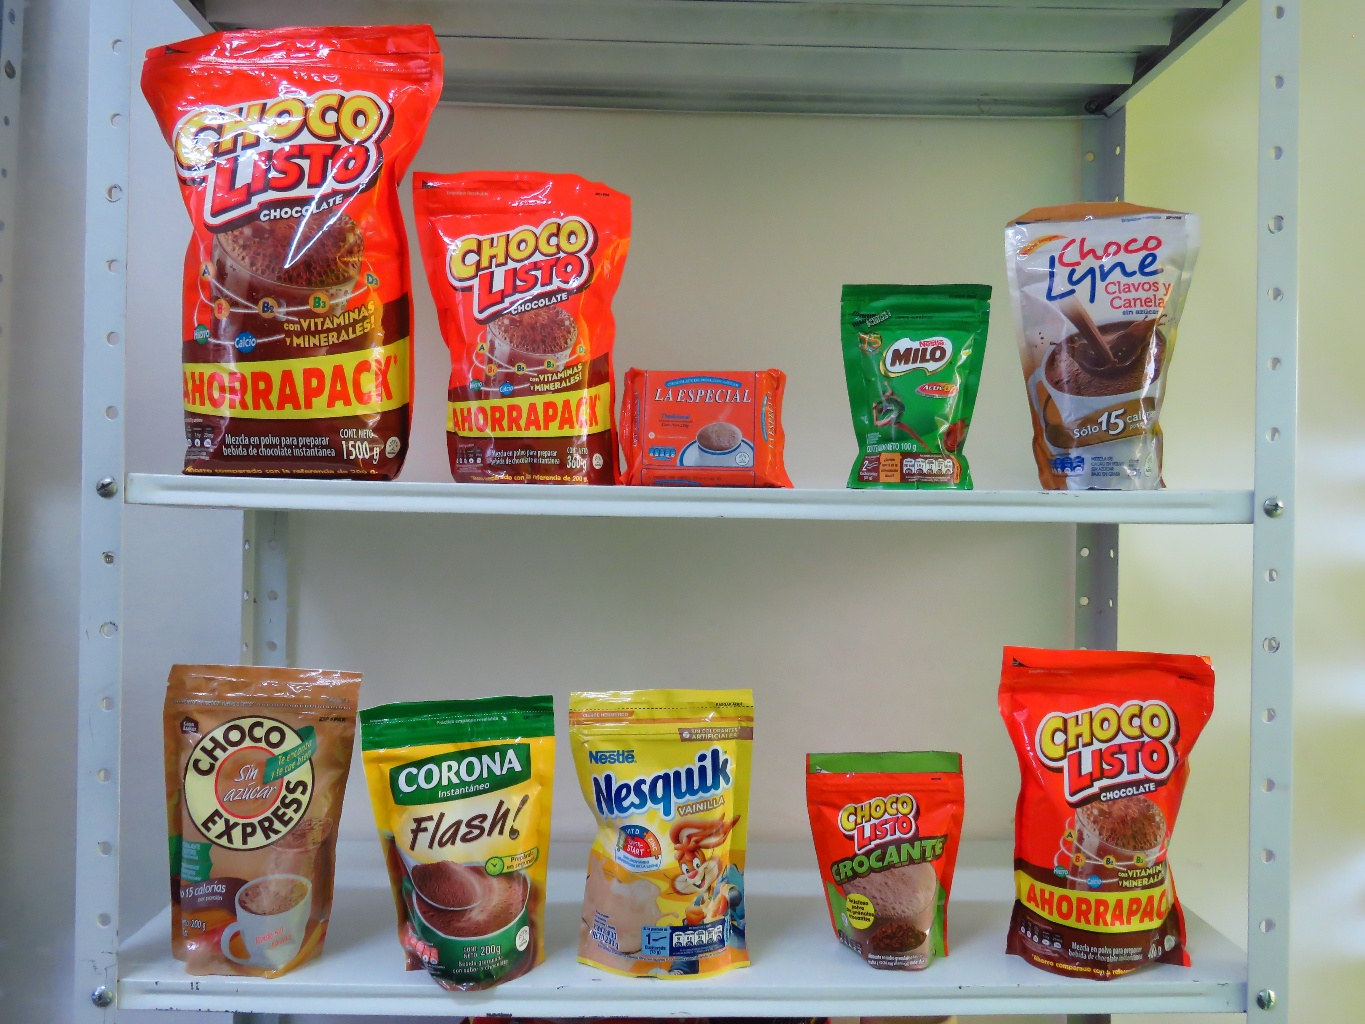COL0170102DYP10000: (778, 733, 989, 984)
COL0170103DYP1,500: (118, 8, 451, 488)
COL0170103DYP36000: (389, 142, 645, 490)
COL0170103DYP40000: (985, 628, 1236, 993)
COL0170203DYP10000: (822, 255, 1013, 506)
COL0170306DYP20000: (551, 671, 791, 989)
